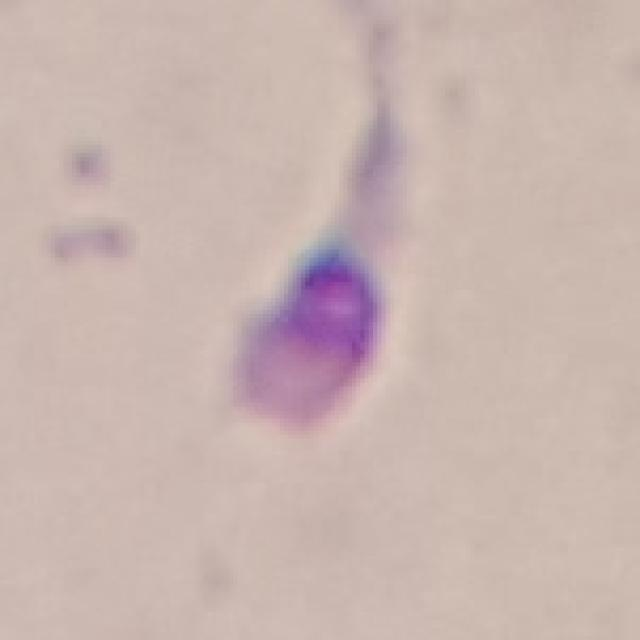abnormal sperm: (233, 110, 391, 431)
